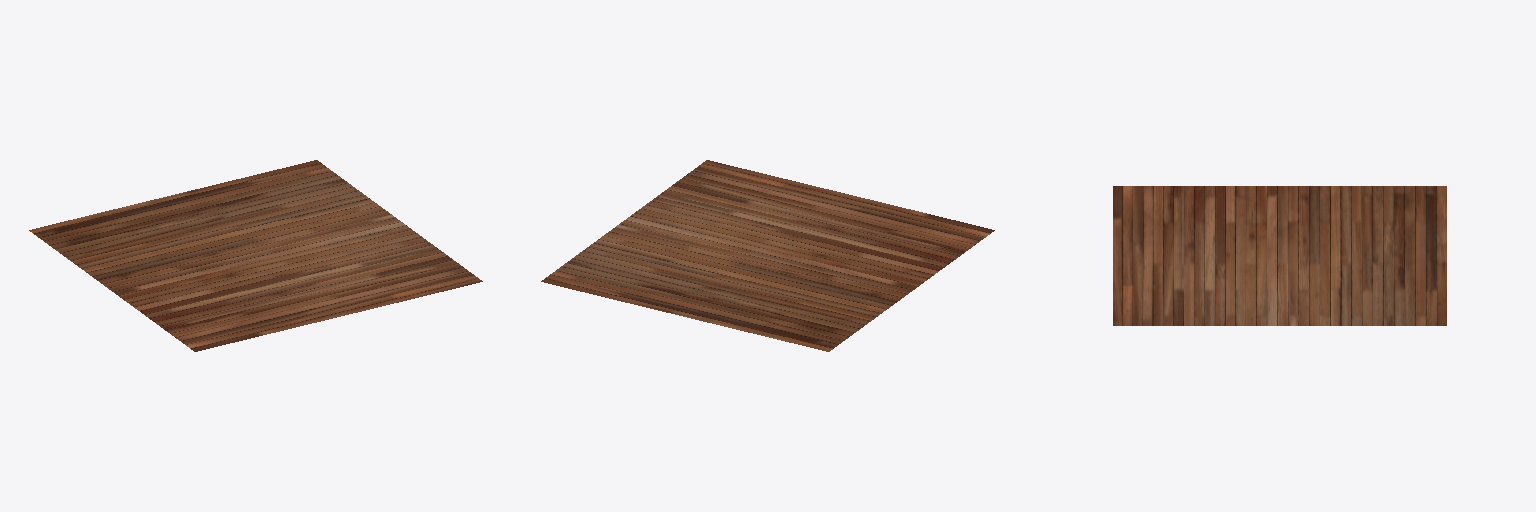
The picture shows the model from 3 angles: view 1: azimuth 30°, elevation 25°; view 2: azimuth 150°, elevation 25°; view 3: azimuth 270°, elevation 25°; orthographic projection.
Parts seen in each view (by area): view 1: Plane; view 2: Plane; view 3: Plane.
Boxes of the visible parts, x1,y1,x2,y2 form: Plane: [29, 160, 482, 351]; Plane: [541, 160, 994, 351]; Plane: [1113, 186, 1446, 325].
Size of the model in its own units: 13.22 by 0 by 13.22.
Materials: 1 (1 with a texture image).